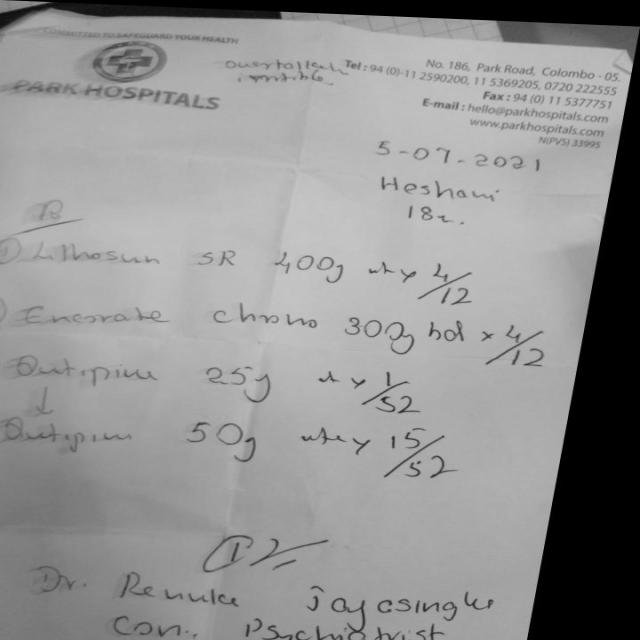Prescription: (16, 356, 490, 480), (29, 298, 569, 365), (34, 236, 503, 304)
